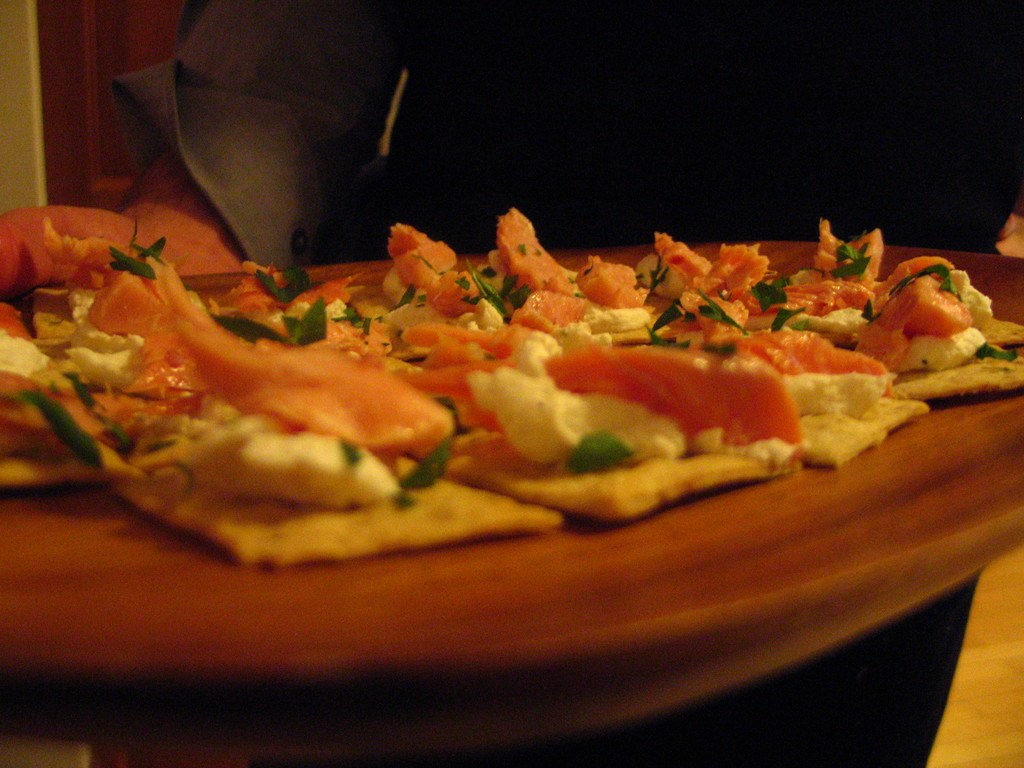Pizza: (0, 178, 995, 585)
